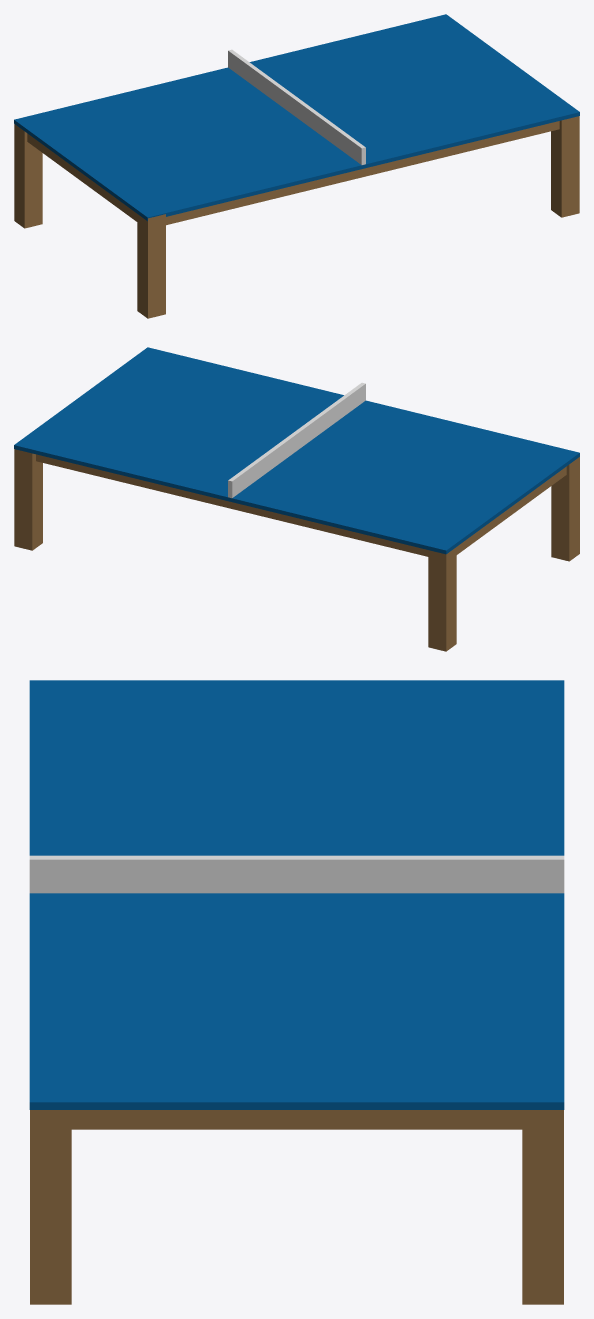
Rendered from Tabletop Battle Table 1st-gen edition .fbx.
The picture shows the model from 3 angles, top to bottom: view 1: azimuth 30°, elevation 25°; view 2: azimuth 150°, elevation 25°; view 3: azimuth 270°, elevation 25°; orthographic projection. The views are drawn at different scales.
Parts seen in each view (by area): view 1: pCube12; view 2: pCube12; view 3: pCube12.
Boxes of the visible parts, x1,y1,x2,y2 form: pCube12: (14,14,579,318); pCube12: (14,347,579,651); pCube12: (29,680,564,1304).
Bounding box in the file's own units: 23.91 × 6.24 × 12.81.
